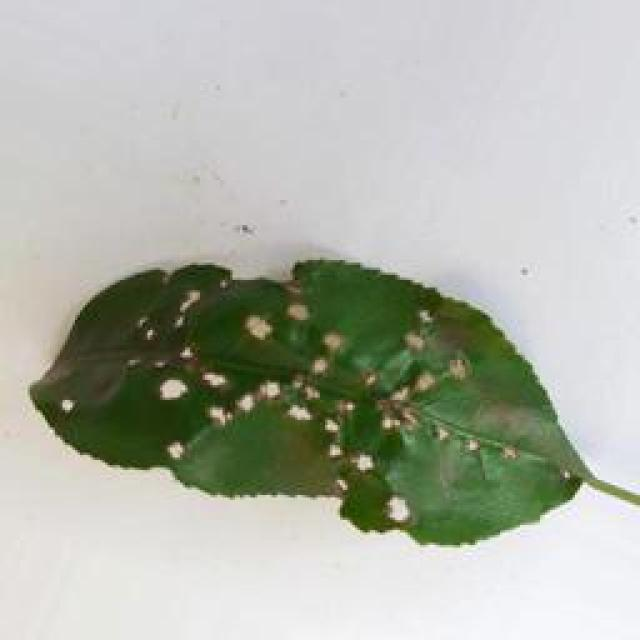Helopeltis: (28, 246, 593, 554)
